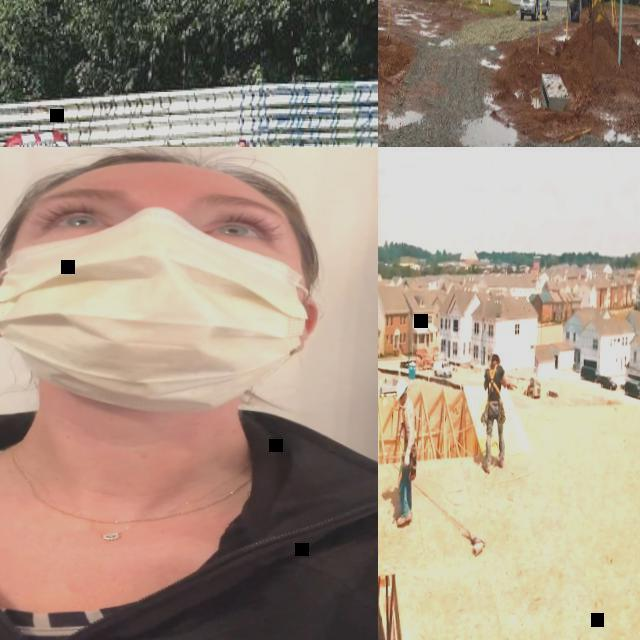helmet: (20, 147, 312, 212), (396, 378, 408, 399), (492, 348, 502, 361), (236, 139, 251, 147)
machinery: (416, 348, 434, 369)
mask: (0, 204, 319, 415)
no_mask: (400, 398, 406, 405)
no_vest: (0, 412, 378, 640), (487, 364, 503, 401)
person: (0, 147, 378, 640), (392, 378, 419, 524), (481, 347, 509, 473)
vehicle: (520, 0, 552, 19), (432, 358, 453, 378), (580, 364, 600, 382), (625, 379, 640, 399), (599, 374, 618, 389)
